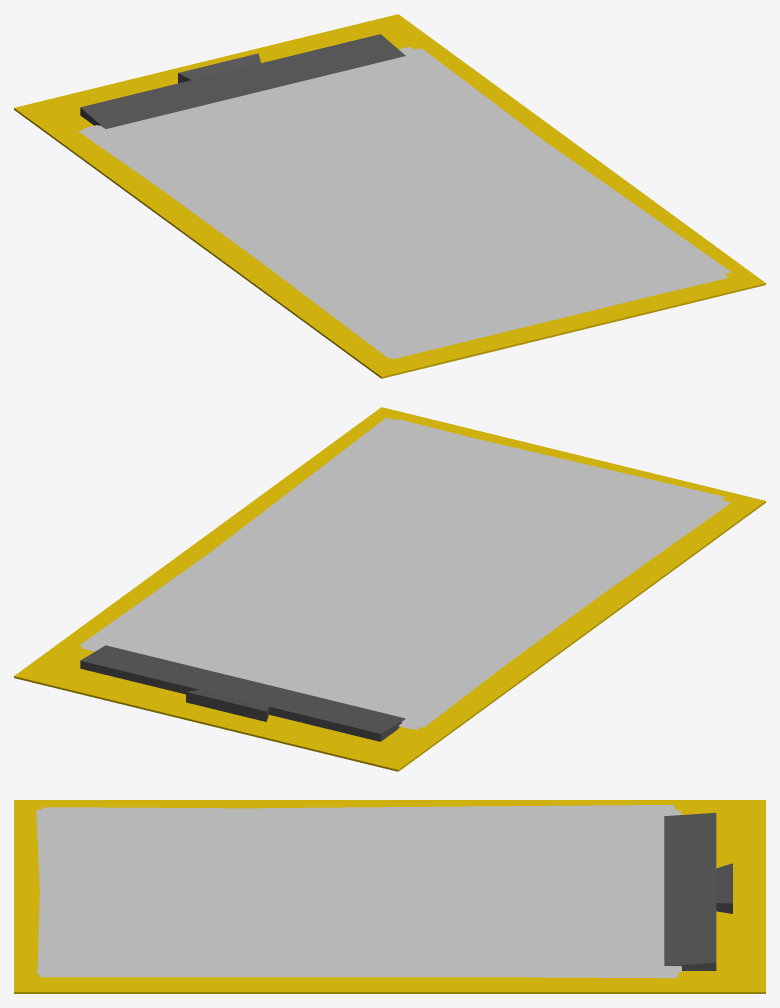
File: Portapapeles.fbx
The picture shows the model from 3 angles, top to bottom: view 1: azimuth 30°, elevation 25°; view 2: azimuth 150°, elevation 25°; view 3: azimuth 270°, elevation 25°; orthographic projection. The views are drawn at different scales.
Visible parts, largest first — view 1: Plane.004; view 2: Plane.004; view 3: Plane.004.
Boxes of the visible parts, <box> form: Plane.004: <box>14,14,765,378</box>; Plane.004: <box>14,407,765,771</box>; Plane.004: <box>14,800,765,993</box>.
Bounding box in the file's own units: 69.73 × 2.17 × 115.
Materials: 3 (1 with a texture image).
